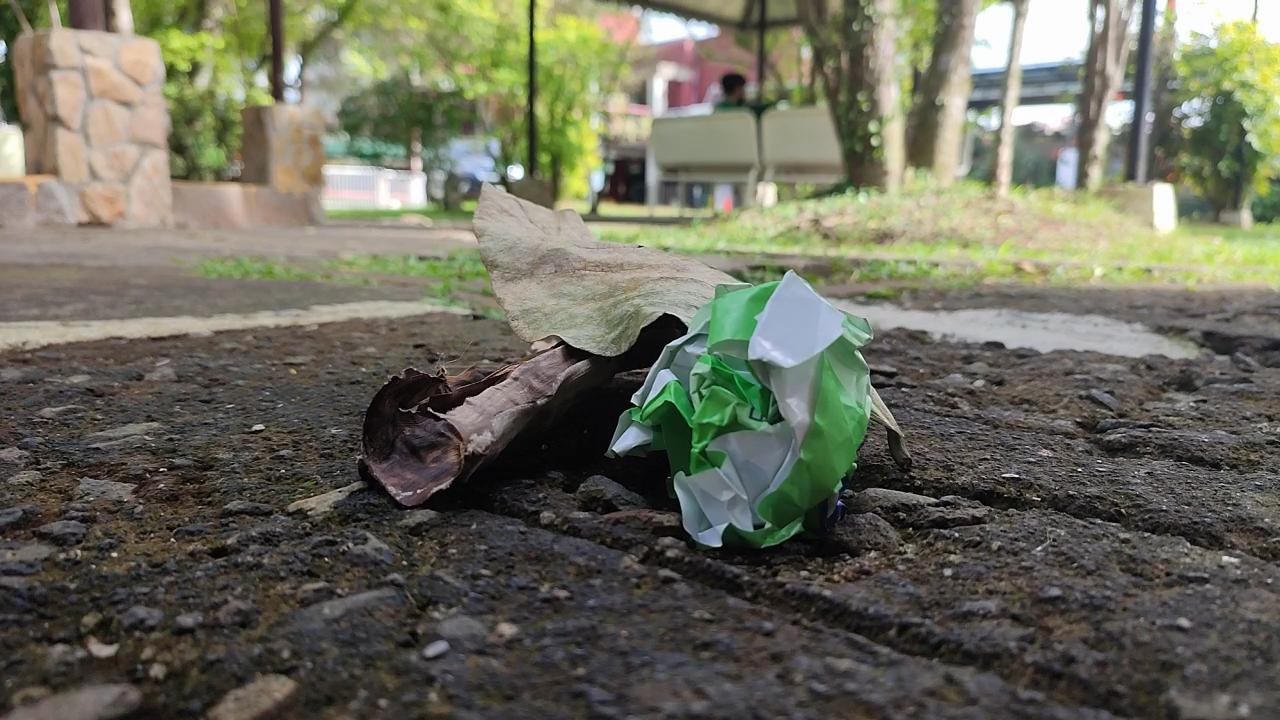Paper: (591, 261, 880, 562)
